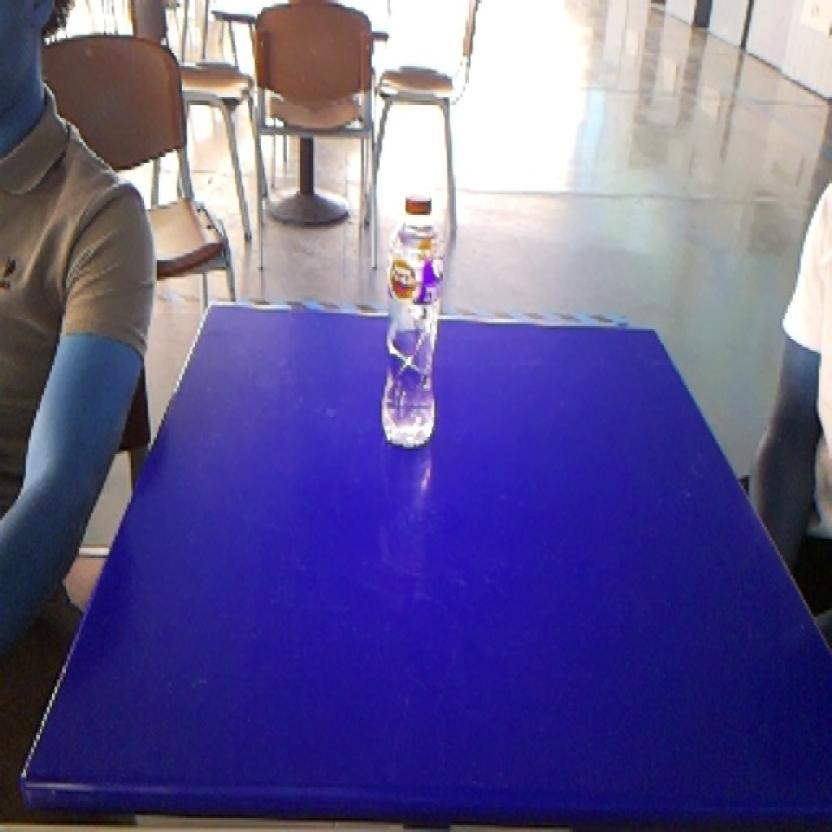good: (374, 183, 454, 464)
